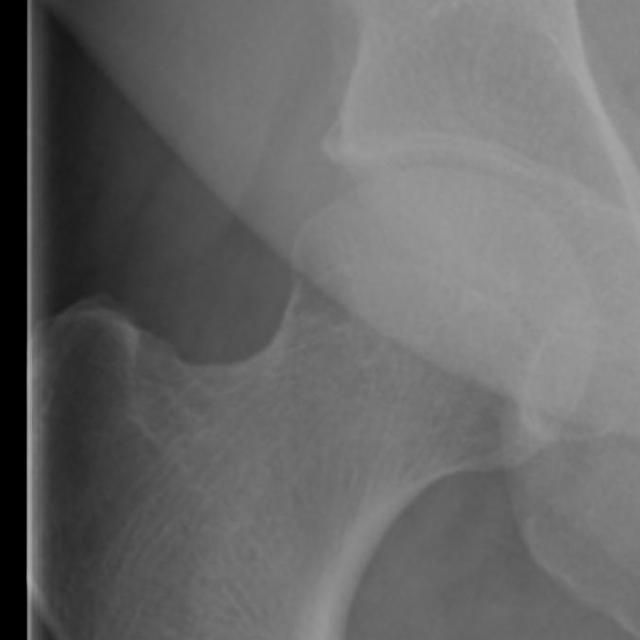Fitted_femural_head: (325, 168, 432, 325)
